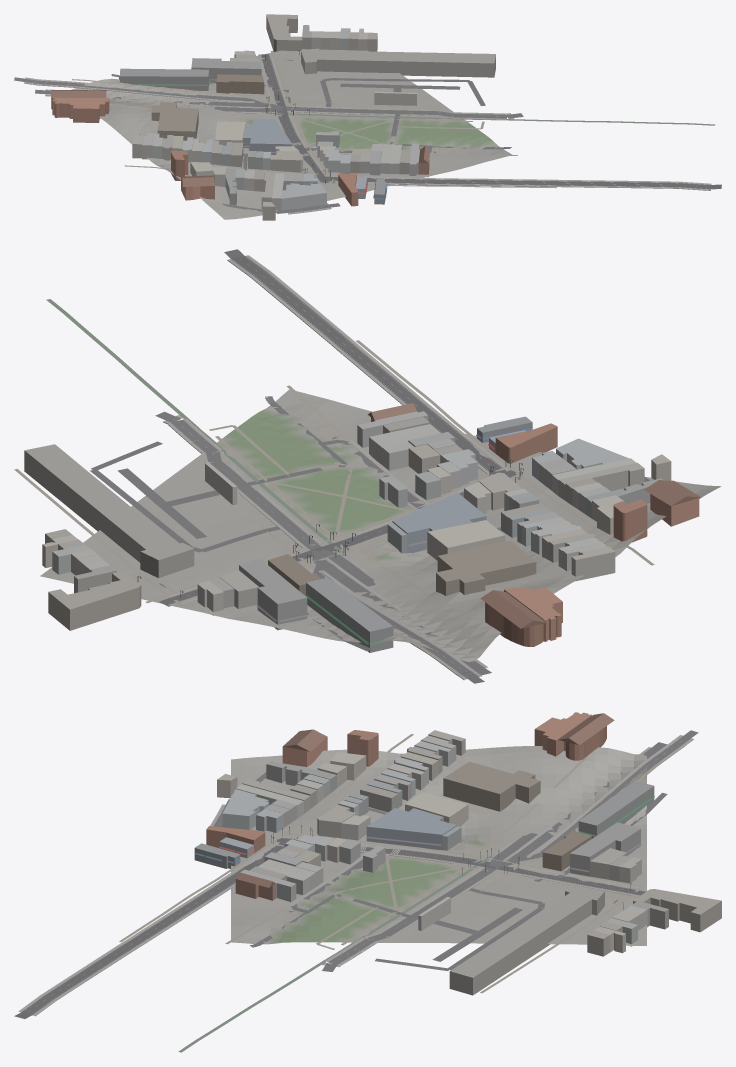
Rendered from tile_-4_-6.glb.
The picture shows the model from 3 angles, top to bottom: view 1: azimuth 30°, elevation 25°; view 2: azimuth 150°, elevation 25°; view 3: azimuth 270°, elevation 25°; orthographic projection. The views are drawn at different scales.
Parts seen in each view (by area): view 1: buildings, terrain, roads, sidewalks, paths; view 2: buildings, terrain, roads, paths, sidewalks; view 3: buildings, terrain, roads, paths, sidewalks, awnings.
Boxes of the visible parts, x1,y1,x2,y2 form: buildings: (51, 14, 495, 220); terrain: (71, 49, 512, 219); roads: (14, 54, 721, 213); sidewalks: (24, 58, 711, 214); paths: (72, 50, 715, 188); buildings: (24, 403, 700, 652); terrain: (40, 389, 721, 661); roads: (90, 249, 649, 683); paths: (14, 299, 654, 655); sidewalks: (163, 255, 508, 679); buildings: (194, 712, 721, 995); terrain: (231, 746, 646, 945); roads: (14, 730, 698, 1018); paths: (119, 734, 663, 1052); sidewalks: (18, 735, 693, 1016); awnings: (194, 796, 654, 872).
Size of the model in its own units: 445 by 30.85 by 436.
